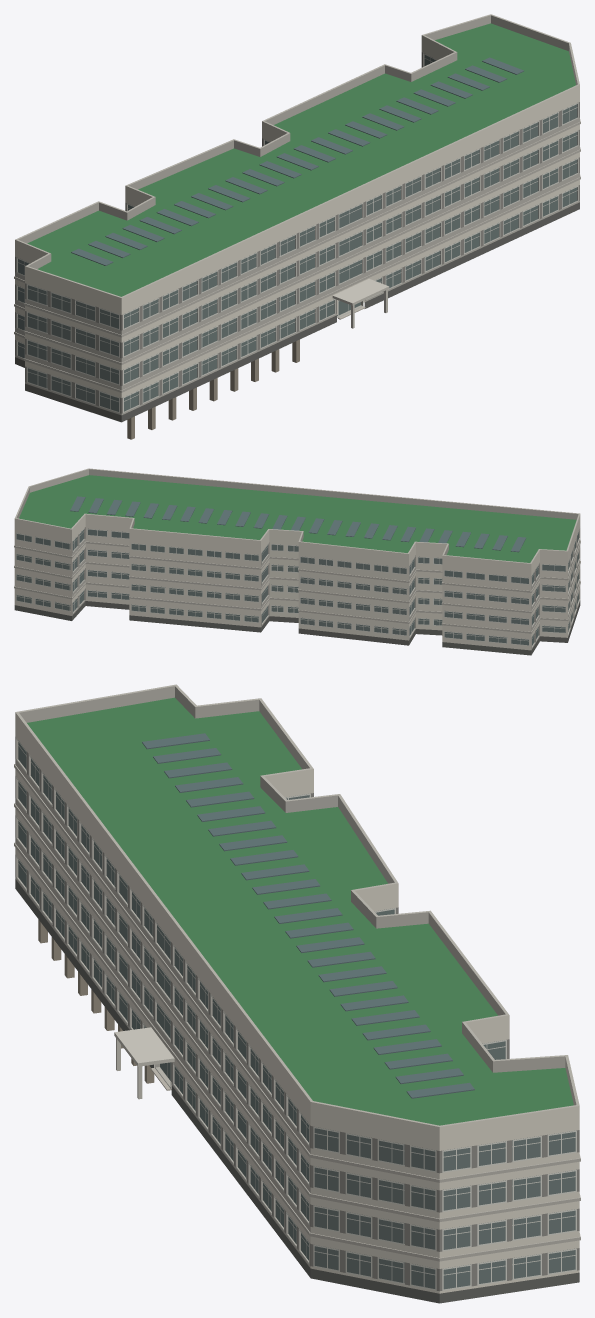
The picture shows the model from 3 angles, top to bottom: view 1: azimuth 30°, elevation 25°; view 2: azimuth 150°, elevation 25°; view 3: azimuth 270°, elevation 25°; orthographic projection. The views are drawn at different scales.
Parts seen in each view (by area): view 1: wing1__roof, wing1__glass, wing1__trim-concrete, wing1__wall-plaster, wing1__frame, solar-roof-panels, wing1__brick, wing1__base-stone, undercroft-column, wing1__canopy-concrete; view 2: wing1__wall-plaster, wing1__roof, wing1__glass, wing1__trim-concrete, wing1__frame, solar-roof-panels, wing1__base-stone, wing1__brick; view 3: wing1__roof, wing1__wall-plaster, wing1__trim-concrete, wing1__glass, wing1__frame, solar-roof-panels, wing1__brick, wing1__base-stone, wing1__canopy-concrete, undercroft-column.
Boxes of the visible parts, x1=… form: wing1__roof: x1=27, y1=23, x2=575, y2=296; wing1__glass: x1=17, y1=54, x2=577, y2=411; wing1__trim-concrete: x1=14, y1=14, x2=580, y2=415; wing1__wall-plaster: x1=15, y1=35, x2=579, y2=397; wing1__frame: x1=16, y1=53, x2=578, y2=413; solar-roof-panels: x1=71, y1=57, x2=523, y2=265; wing1__brick: x1=15, y1=52, x2=579, y2=413; wing1__base-stone: x1=15, y1=202, x2=579, y2=422; undercroft-column: x1=127, y1=339, x2=299, y2=439; wing1__canopy-concrete: x1=332, y1=278, x2=389, y2=328; wing1__wall-plaster: x1=14, y1=514, x2=580, y2=650; wing1__roof: x1=19, y1=475, x2=576, y2=562; wing1__glass: x1=16, y1=528, x2=578, y2=645; wing1__trim-concrete: x1=14, y1=468, x2=580, y2=649; wing1__frame: x1=16, y1=527, x2=580, y2=648; solar-roof-panels: x1=70, y1=496, x2=525, y2=552; wing1__base-stone: x1=14, y1=601, x2=580, y2=655; wing1__brick: x1=72, y1=527, x2=577, y2=648; wing1__roof: x1=27, y1=697, x2=573, y2=1125; wing1__wall-plaster: x1=15, y1=712, x2=579, y2=1293; wing1__trim-concrete: x1=14, y1=684, x2=580, y2=1283; wing1__glass: x1=18, y1=740, x2=575, y2=1289; wing1__frame: x1=16, y1=738, x2=576, y2=1290; solar-roof-panels: x1=142, y1=733, x2=474, y2=1098; wing1__brick: x1=15, y1=736, x2=579, y2=1291; wing1__base-stone: x1=15, y1=879, x2=579, y2=1303; wing1__canopy-concrete: x1=114, y1=1027, x2=174, y2=1099; undercroft-column: x1=38, y1=919, x2=154, y2=1083.
Bounding box in the file's own units: 87.05 × 19.75 × 47.02.
